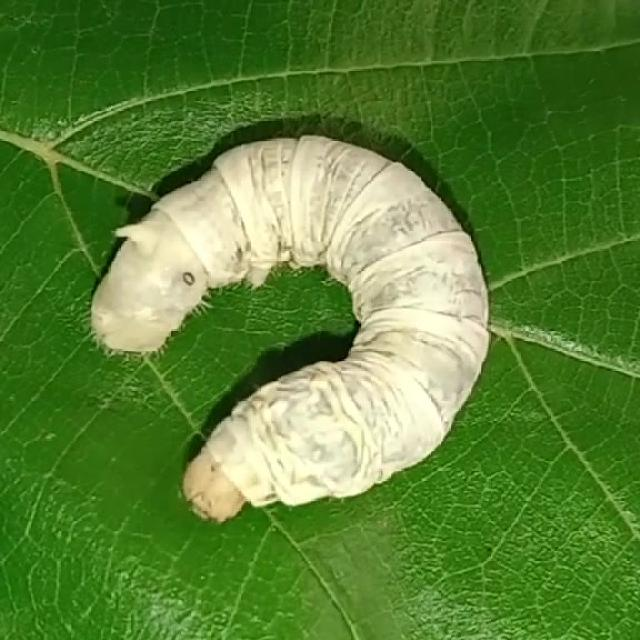Grasserie: (81, 88, 516, 544)
